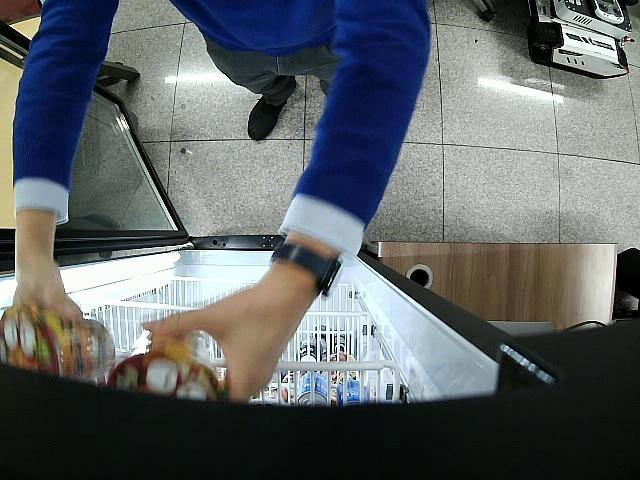06_nuguri_S: (106, 328, 225, 402), (0, 307, 117, 382)
